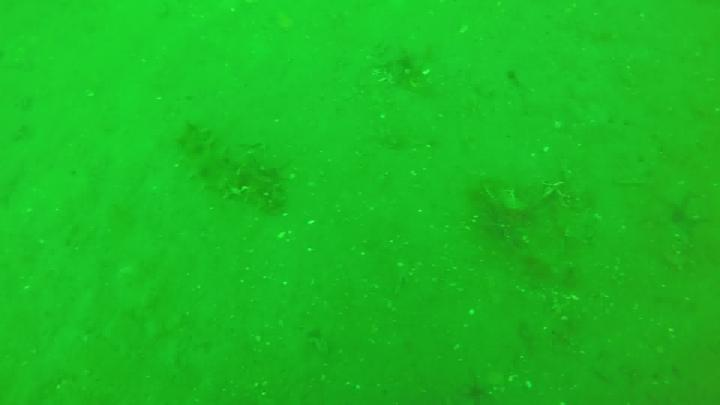holothurian: (181, 126, 281, 214)
